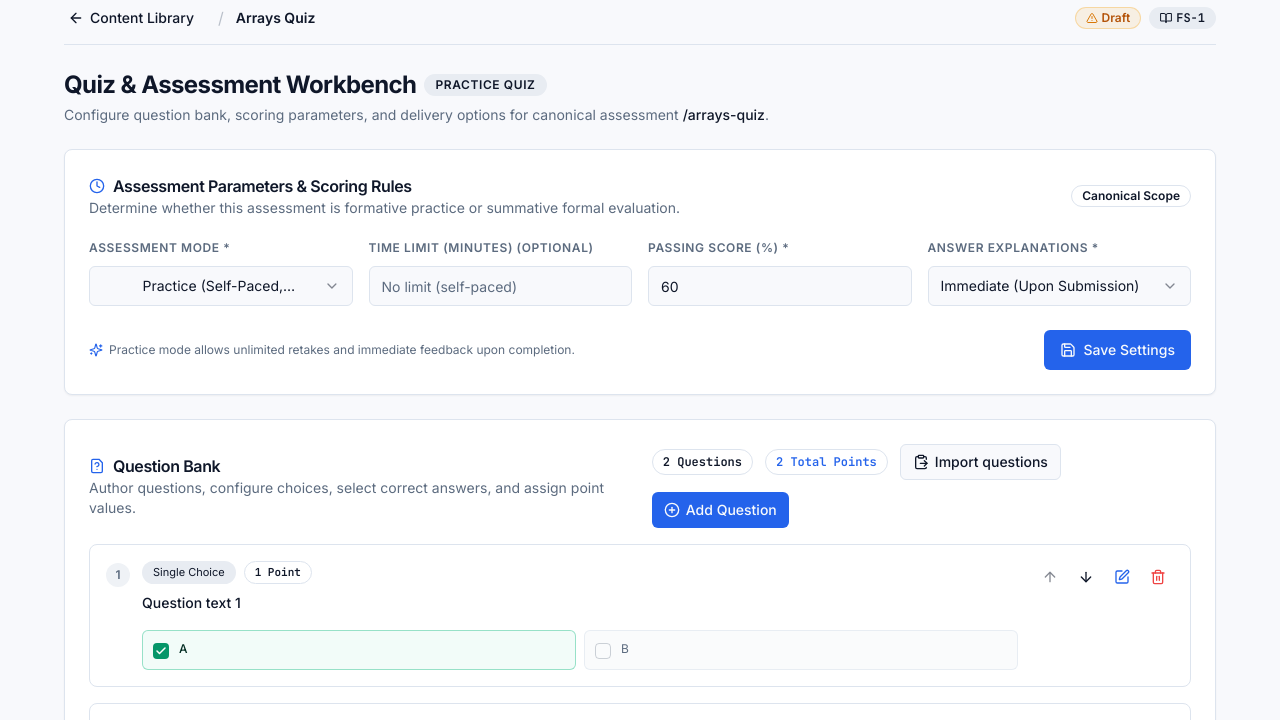
Test: Quiz authoring: deleting a question asks first › Cancel keeps the question
Click the button named "Delete question 1" at (1158, 577), box [1142,561,1174,593]
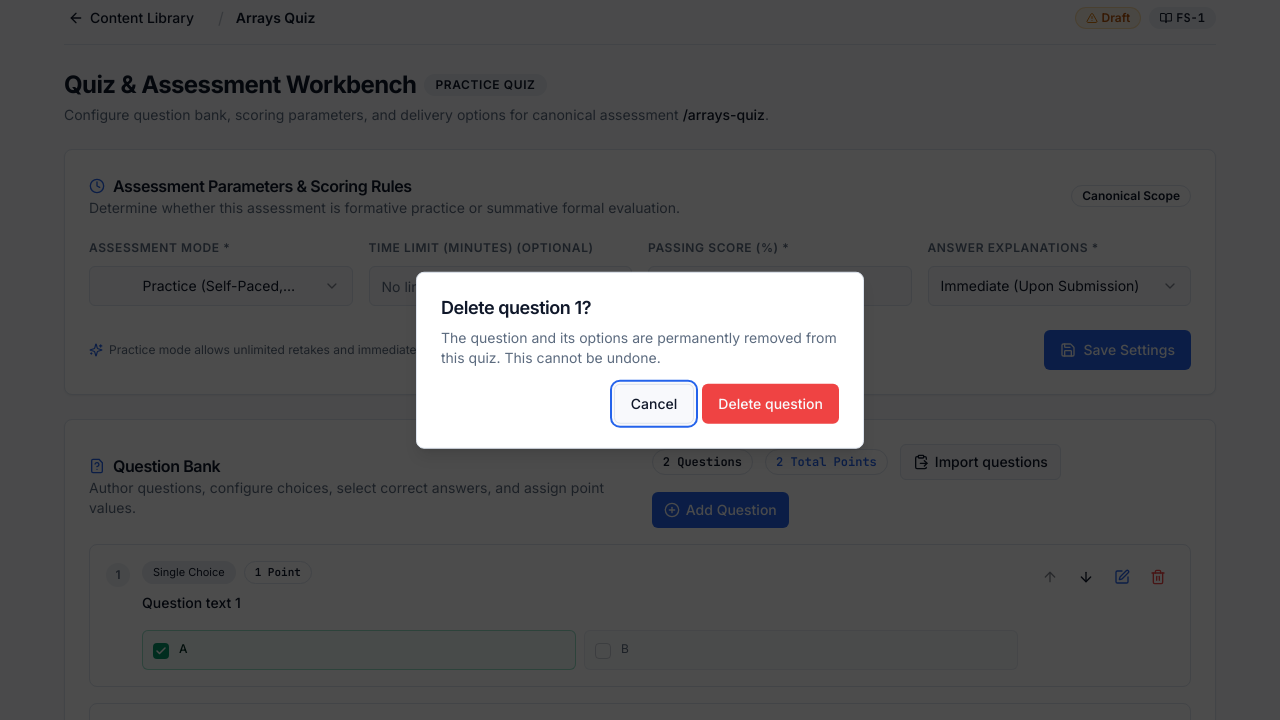
Press Escape
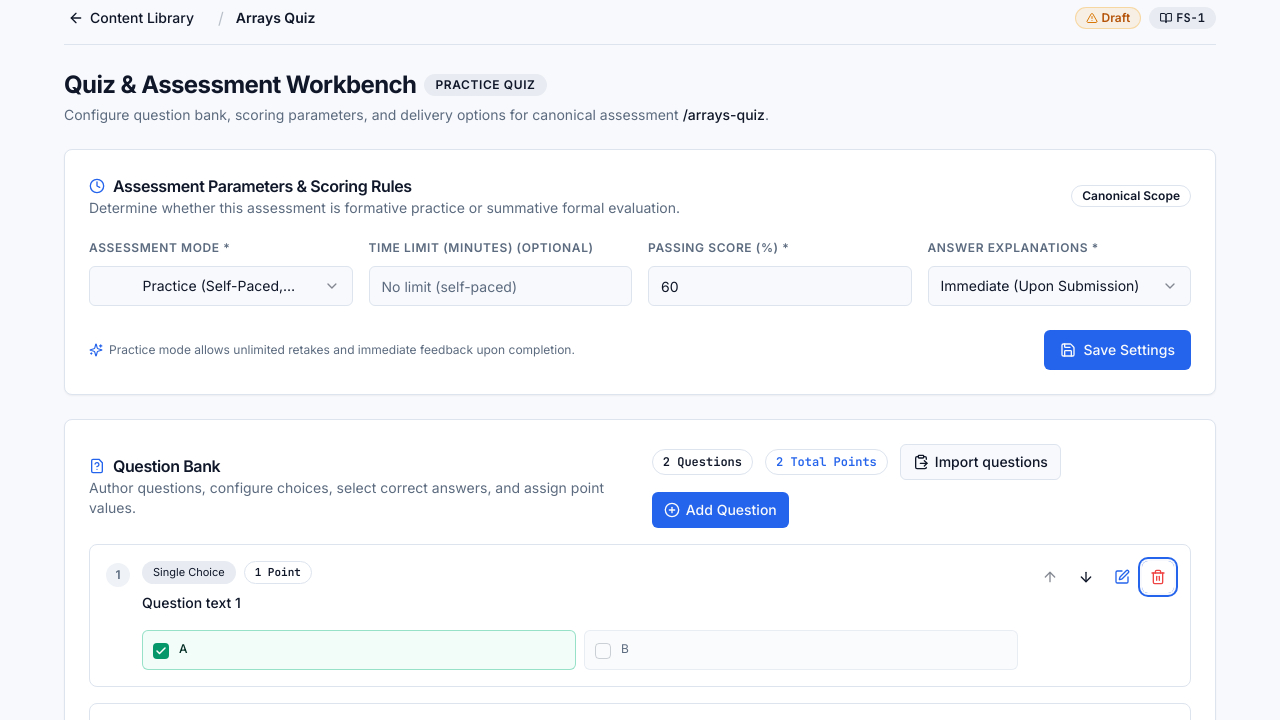
Check: the text "Question text 1" is shown, box [142,594,241,610]
Check: the dialog is gone
